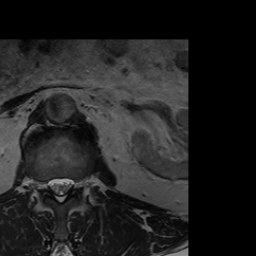CCS_normal: (56, 167, 64, 210)
LFS_normal: (74, 169, 82, 196)
LLS_normal: (64, 168, 74, 197)
RFS_normal: (38, 170, 46, 196)
RLS_normal: (46, 171, 56, 197)
